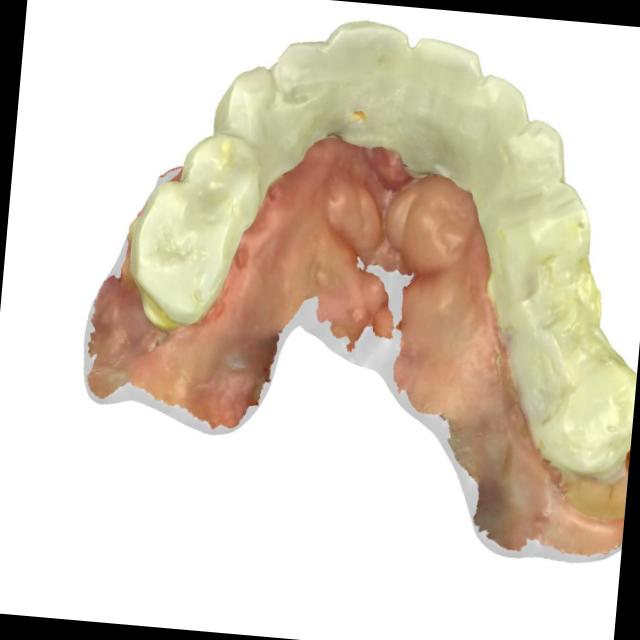tooth: (459, 319, 640, 493), (112, 164, 251, 343), (194, 46, 310, 208), (392, 16, 495, 197), (461, 243, 627, 344), (316, 10, 418, 166), (464, 166, 610, 274), (256, 17, 353, 170), (162, 117, 282, 239), (462, 111, 574, 241), (450, 58, 541, 217)
